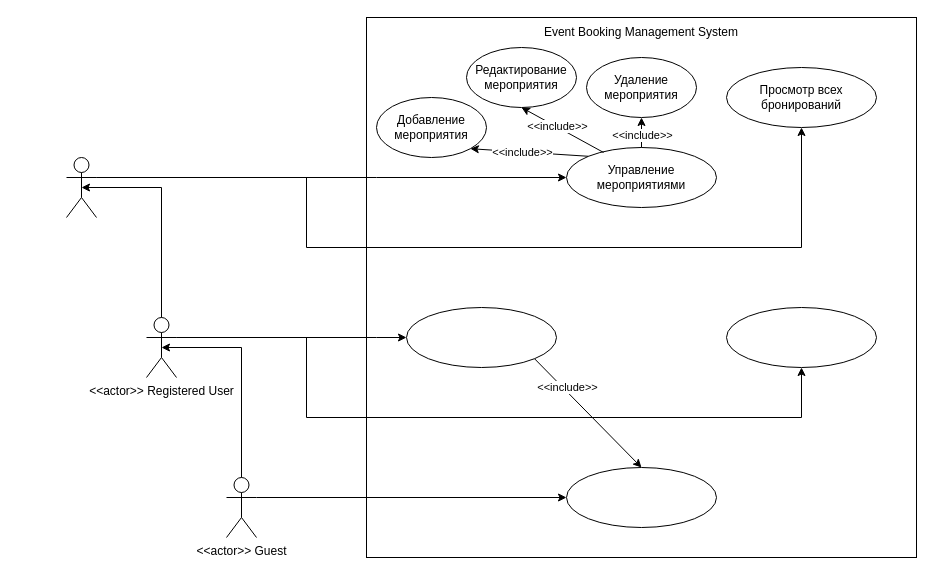
This 934x576 diagram has some shape labels left out. The box of each missing label's shape, as (x1, y1, x2, y2) in pixels:
<<actor>> Administrator: (66, 156, 96, 218)
Бронирование мероприятия: (406, 306, 556, 368)
Отмена бронирования: (726, 306, 876, 368)
Просмотр доступных мероприятий: (566, 466, 716, 528)
